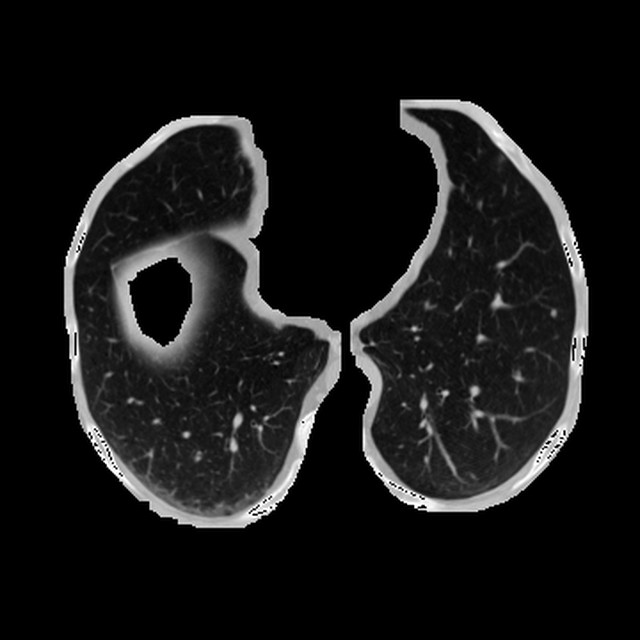PN: (549, 309, 556, 316)
